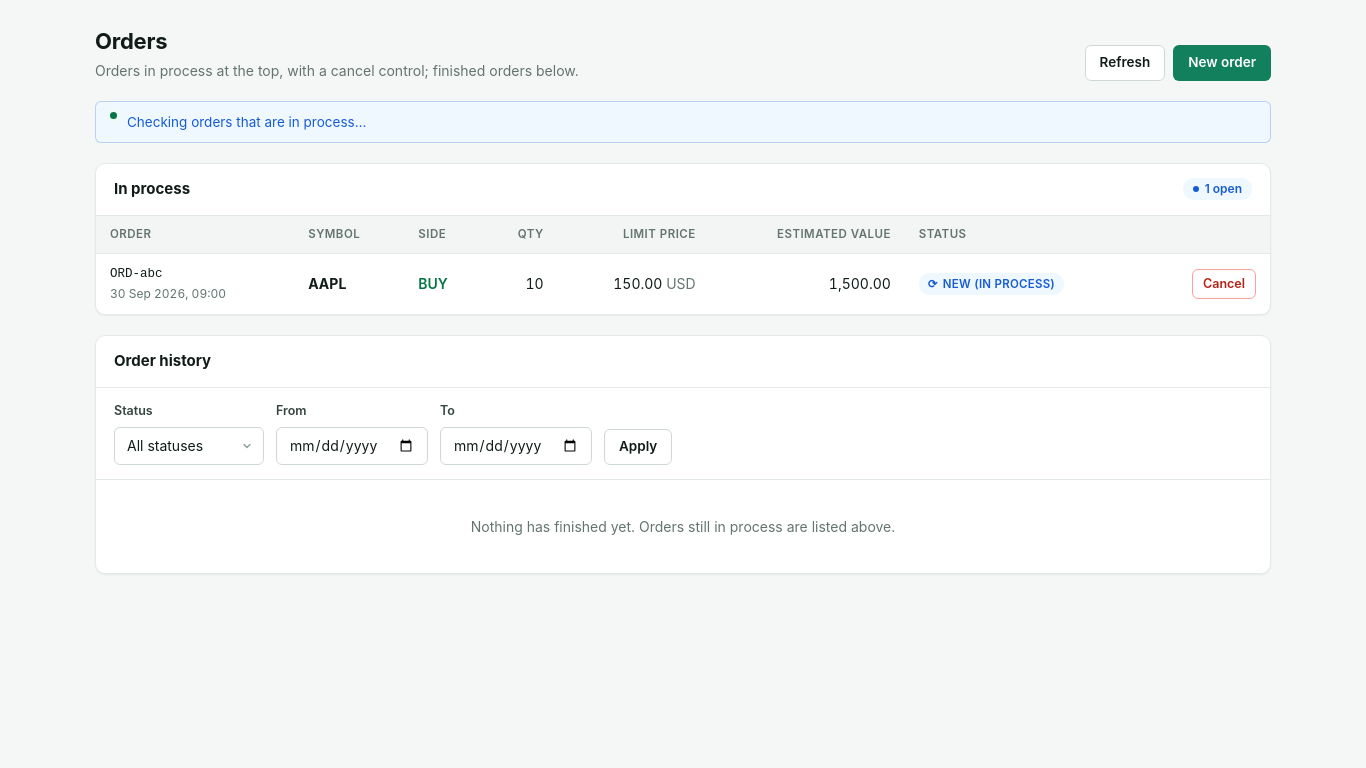
Scenario: OrdersComponent › open orders and cancellation (LEAP-018) › cancels once, only after the confirmation, and shows CANCELLED after the re-read
The image size is (1366, 768).
Click the button "Cancel": [1224, 284] box [1192,269,1256,299]
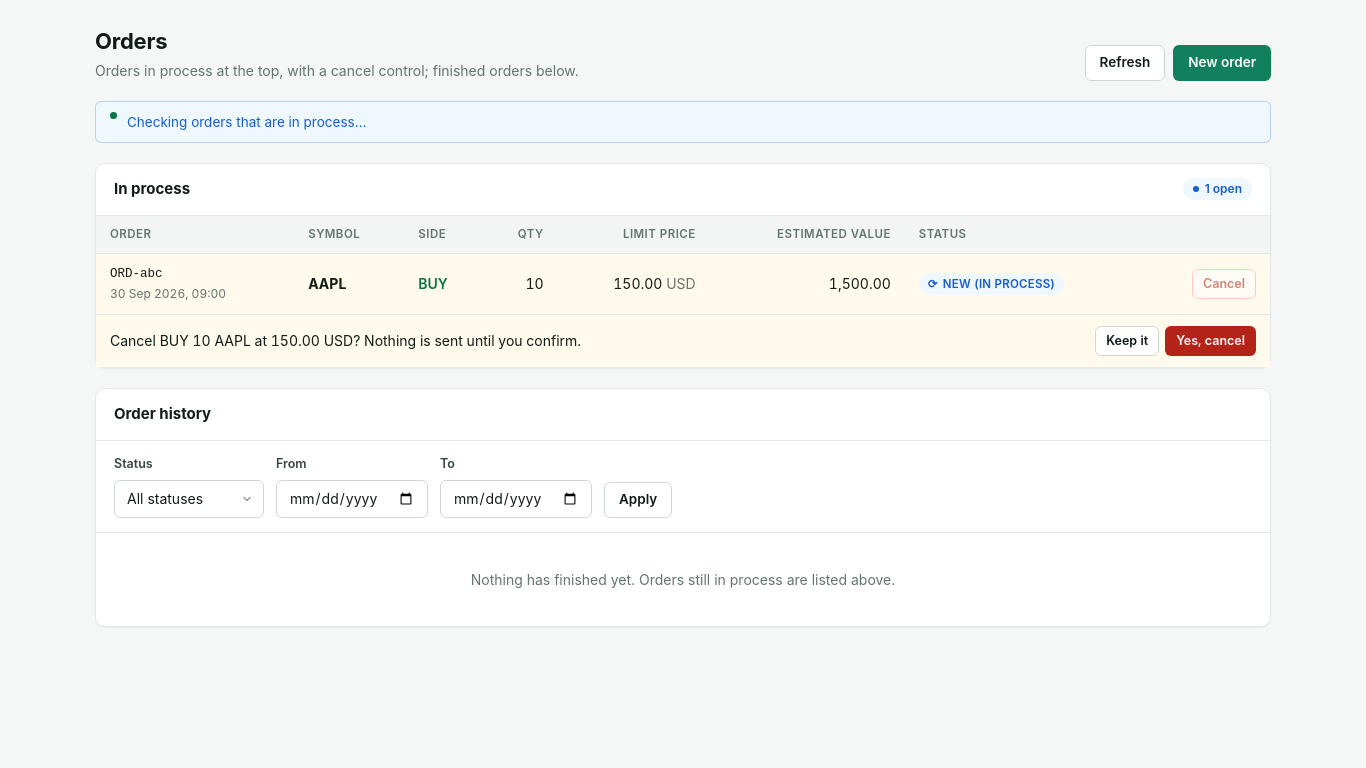
Click the button "Yes, cancel": [1211, 341] box [1165,326,1256,356]
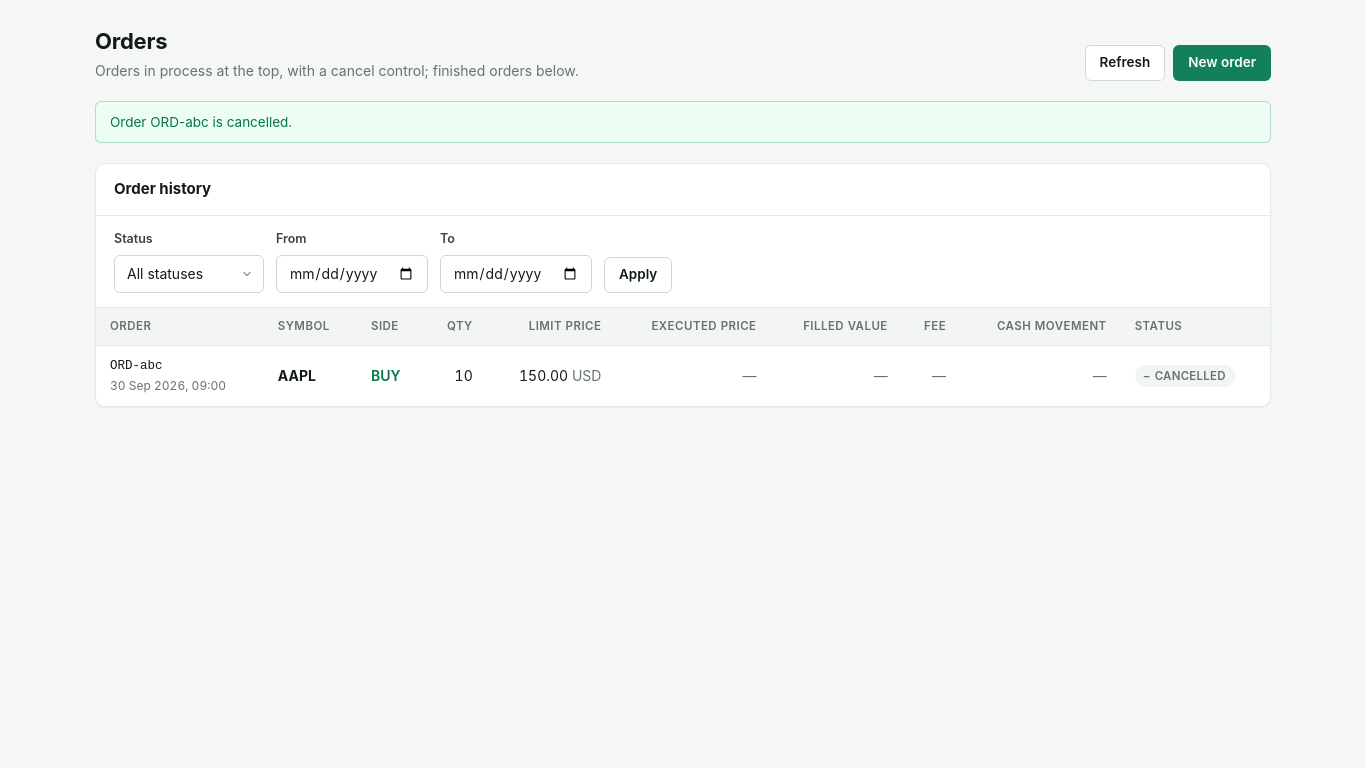
Check: the text "Order ORD-abc is cancelled." is shown, box [95,100,1271,143]
